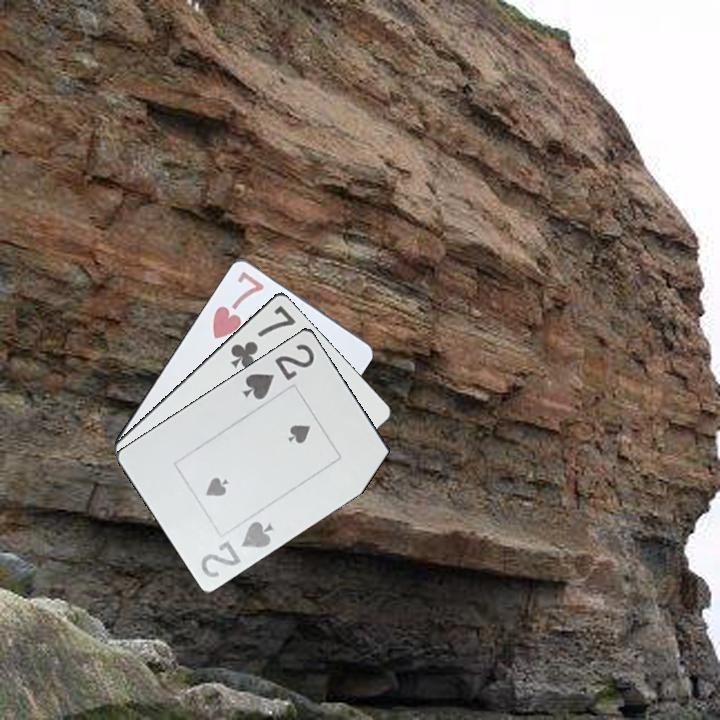2s: (196, 517, 276, 581), (239, 340, 318, 402)
7c: (226, 301, 299, 371)
7h: (208, 268, 267, 341)
